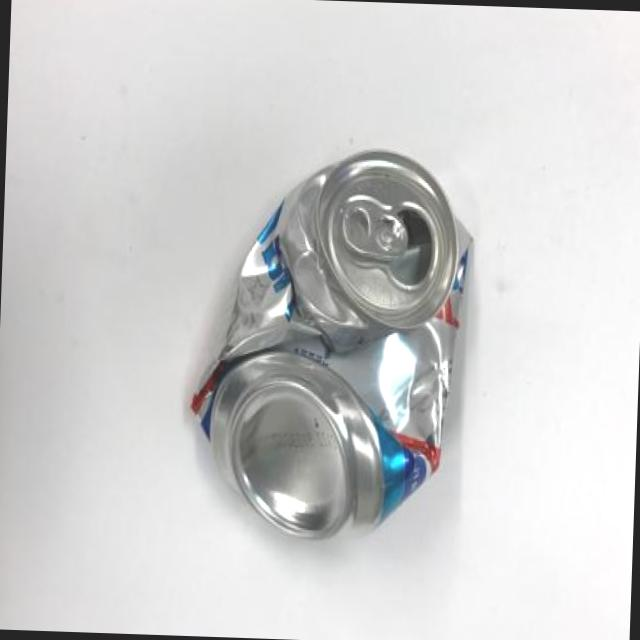kim_loai: (185, 149, 471, 544)
